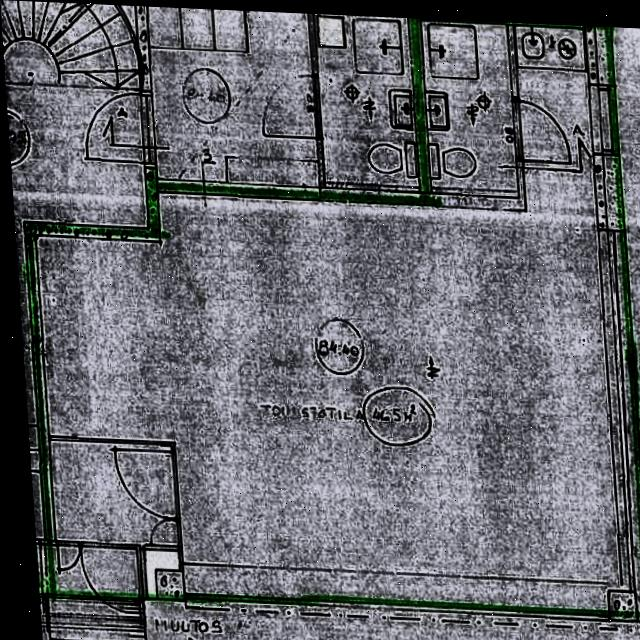room: (314, 8, 419, 198), (421, 14, 519, 203), (45, 440, 183, 546), (52, 546, 141, 594)
